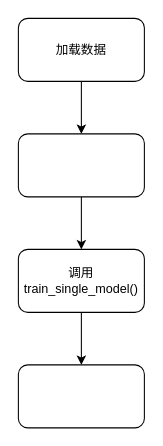
Some shapes in this 163 by 446 pixel diagram are drawn without their labels. Here are the shapes that lost their labels. From the top down, the centre of each, then its label:
At (x=80, y=165): "调用train_pet()".
At (x=80, y=396): "调用_generate_dataset()".
